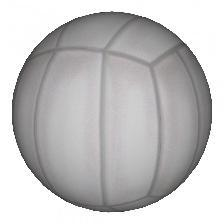Sports-Ball: (14, 8, 215, 215)
